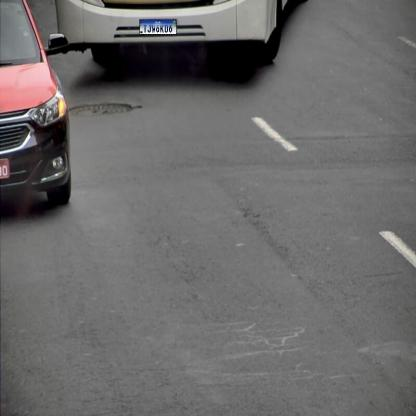PlacaM: (139, 19, 177, 35)
